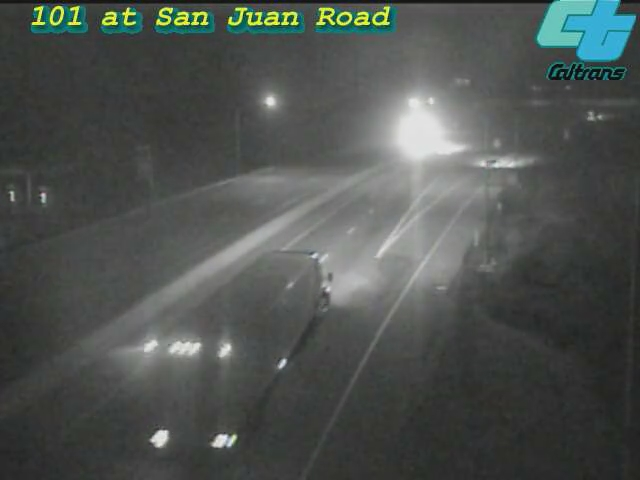vehicle: (192, 272, 302, 382), (450, 124, 530, 204), (392, 107, 442, 157), (570, 91, 620, 141), (426, 122, 476, 172)
